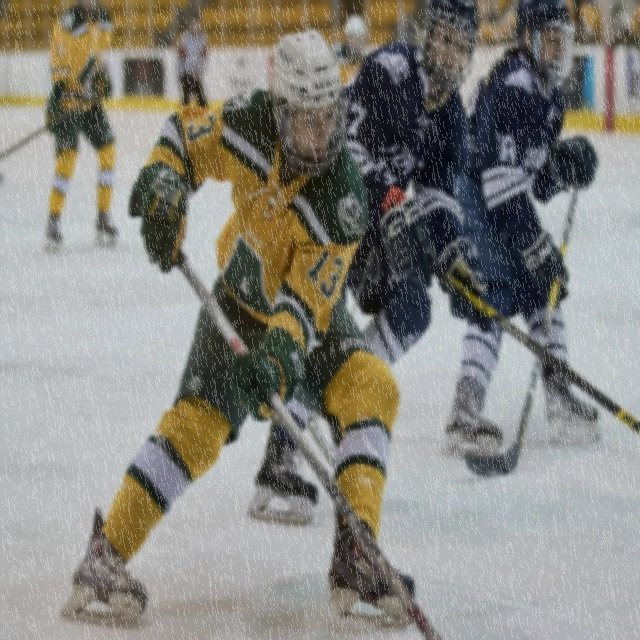pessoa: (59, 26, 418, 634), (245, 0, 490, 528), (438, 0, 602, 469), (42, 0, 121, 255), (328, 8, 382, 80), (174, 10, 210, 110), (576, 1, 638, 46)
